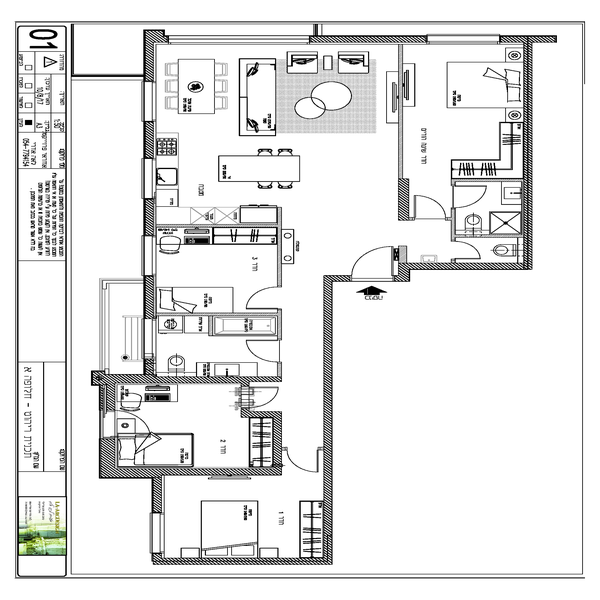door: (347, 238, 398, 281), (410, 191, 447, 226), (287, 448, 322, 477), (246, 337, 281, 364), (249, 285, 280, 314), (455, 237, 486, 263), (453, 184, 489, 206)
room: (136, 32, 407, 228), (394, 34, 532, 270), (134, 221, 280, 387), (97, 374, 287, 480), (144, 464, 333, 564)
wall: (323, 274, 331, 564), (523, 43, 532, 264), (118, 465, 281, 475), (106, 375, 279, 384), (169, 35, 312, 43), (156, 311, 279, 319), (101, 435, 123, 479), (397, 43, 404, 174), (310, 34, 431, 41), (398, 264, 526, 270), (144, 31, 157, 82), (97, 383, 117, 413), (143, 274, 157, 315), (144, 200, 158, 237), (153, 224, 278, 228), (273, 415, 281, 471), (240, 409, 281, 419), (399, 176, 408, 220), (500, 35, 556, 42), (143, 122, 155, 153), (277, 208, 281, 292)
window: (139, 156, 157, 201), (145, 513, 165, 552), (139, 237, 157, 275), (142, 80, 157, 122), (143, 318, 157, 356)
